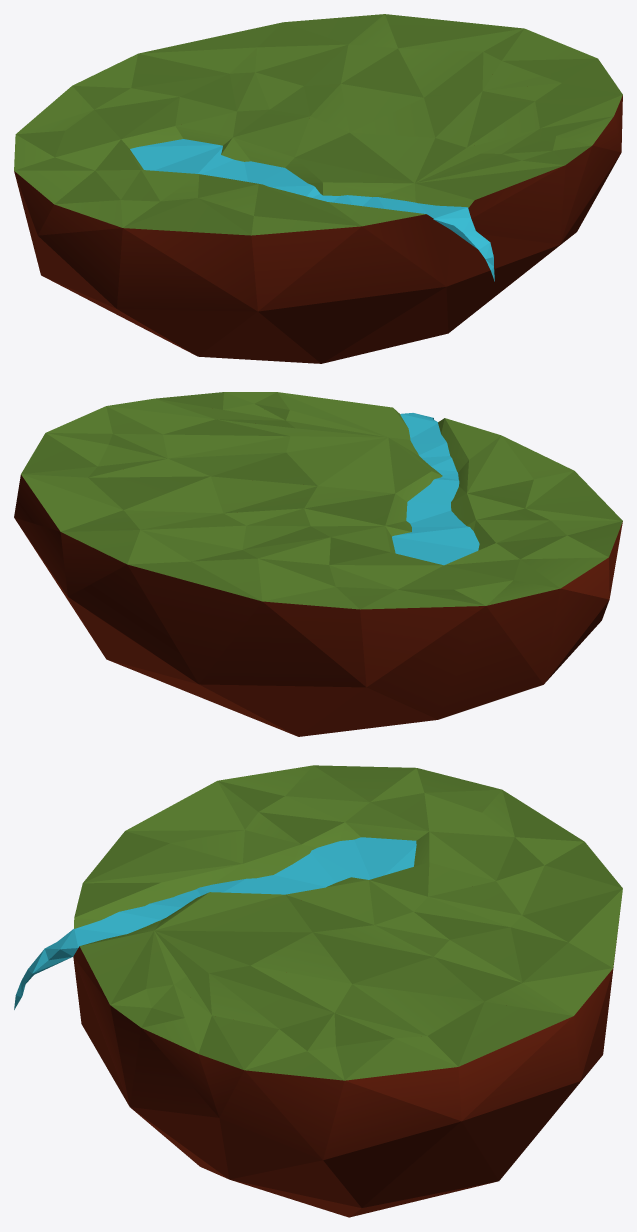
File: island.fbx
The picture shows the model from 3 angles, top to bottom: view 1: azimuth 30°, elevation 25°; view 2: azimuth 150°, elevation 25°; view 3: azimuth 270°, elevation 25°; orthographic projection. The views are drawn at different scales.
Visible parts, largest first — view 1: Island, River; view 2: Island, River; view 3: Island, River.
Part boxes in pixels (bbox=[...]): Island: bbox=[14, 14, 622, 363]; River: bbox=[130, 139, 494, 281]; Island: bbox=[14, 392, 622, 736]; River: bbox=[392, 413, 479, 565]; Island: bbox=[73, 765, 622, 1217]; River: bbox=[14, 837, 416, 1009].
Bounding box in the file's own units: 4.79 × 3.85 × 1.71.
